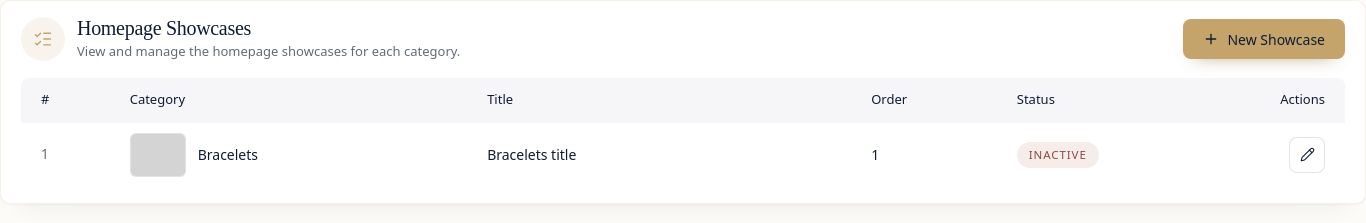
Test: Status pill — ACTIVE ⇄ INACTIVE toggle › sets an INACTIVE showcase back to ACTIVE
This screenshot has width=1366, height=223.
Click the button with test id "showcase-status-toggle".
click(1058, 155)  # box [1017,142,1099,168]
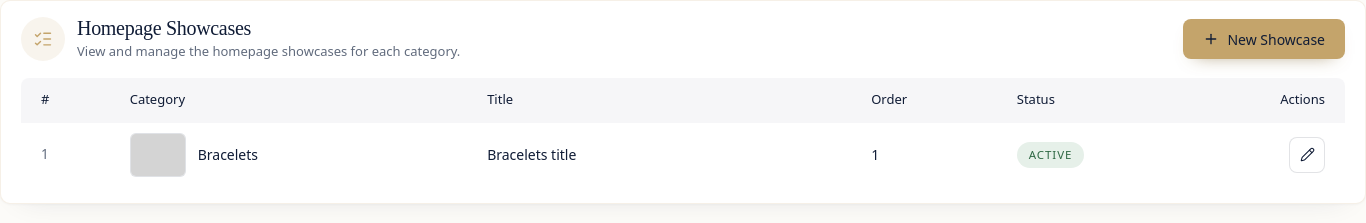
Result: the button with test id "showcase-status-toggle" reads "Active" at [1017,142,1084,168]
